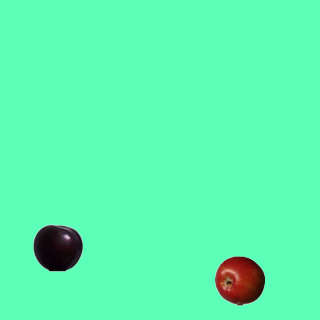Apple Braeburn: (214, 255, 264, 305)
Cherry Wax Black: (32, 222, 82, 272)
